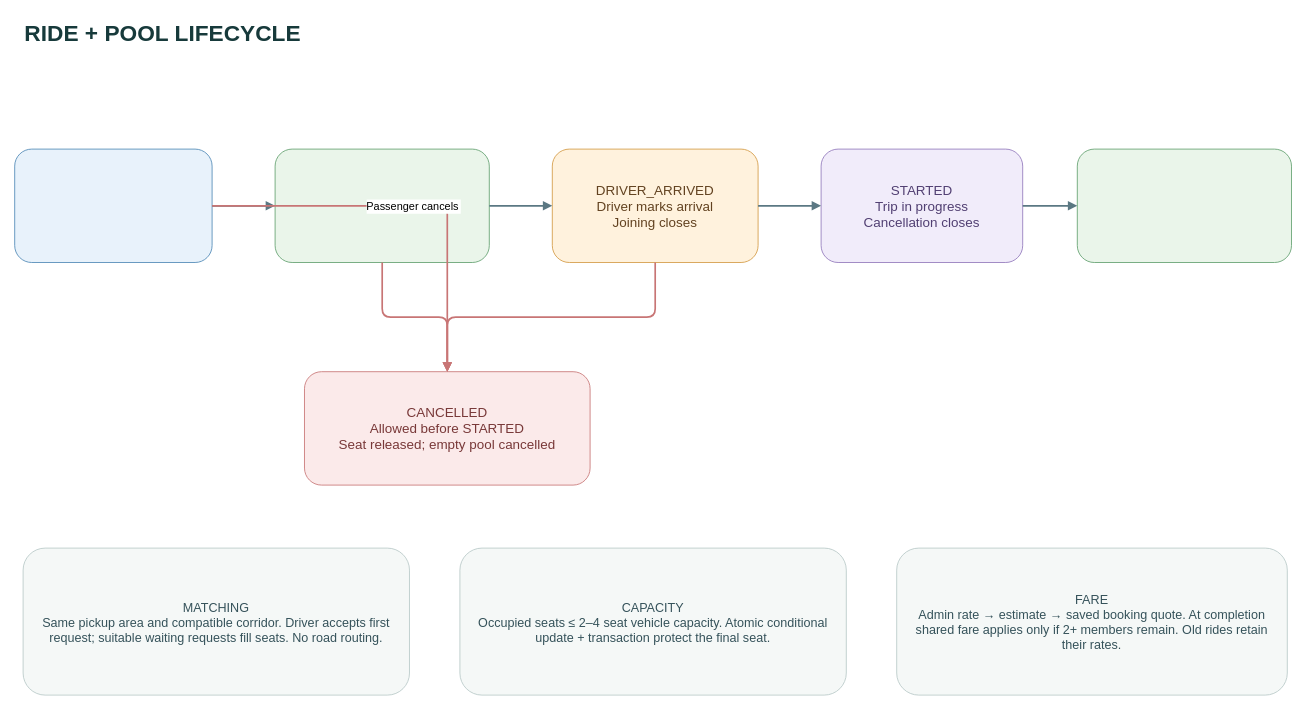
The diagram is 1306 pixels wide and 710 high, and some of its shapes have lost their labels. The centre of each missing label's shape, as x and y in pixels:
COMPLETED Final fare saved Cash due / TeslaPay simulated paid: pixel 1184 205
MATCHED Approved online Driver accepts Compatible requests join: pixel 381 205
REQUESTED Passenger books Solo fare shown: pixel 113 205
